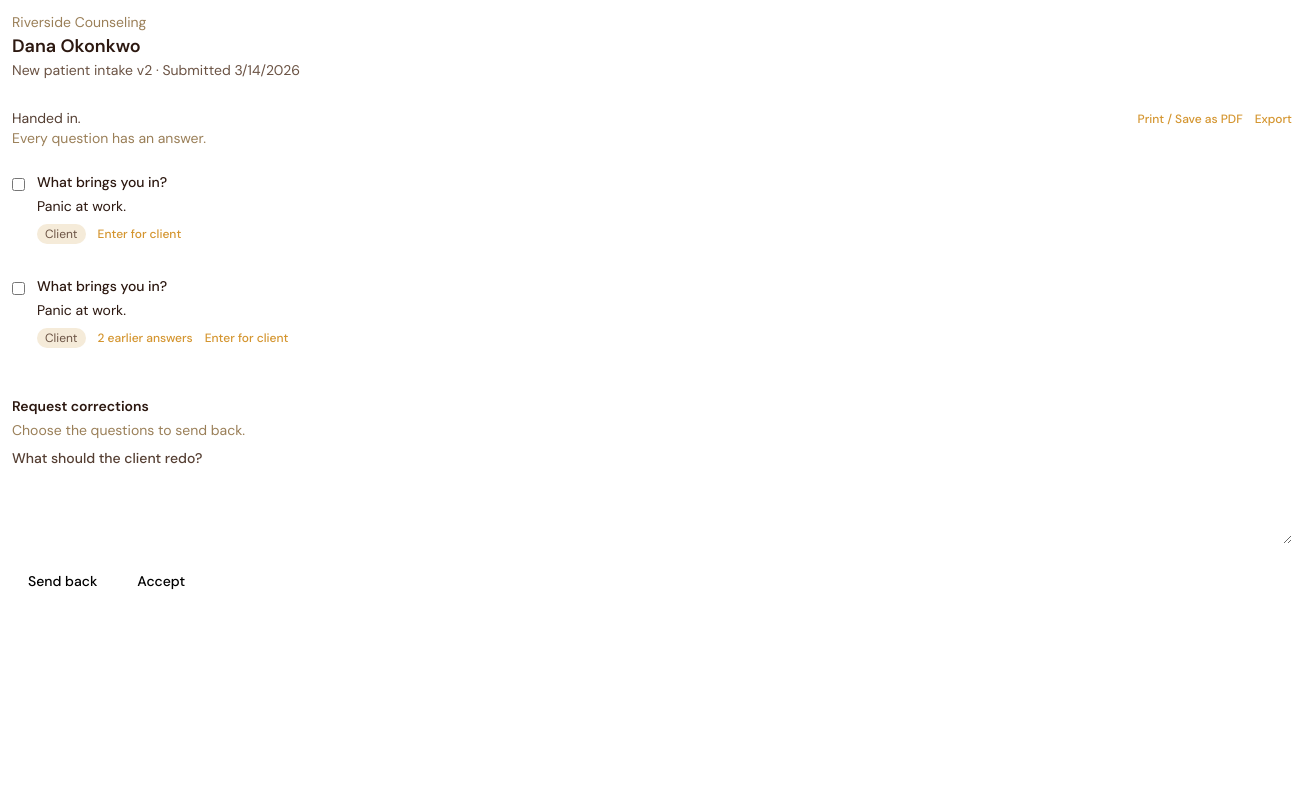
IntakeReviewPanel › offers the earlier-answers toggle only when there were earlier answers
Click the button with test id "intake-review-earlier-toggle-item-2": x=145, y=338 left=98, top=330, right=193, bottom=346
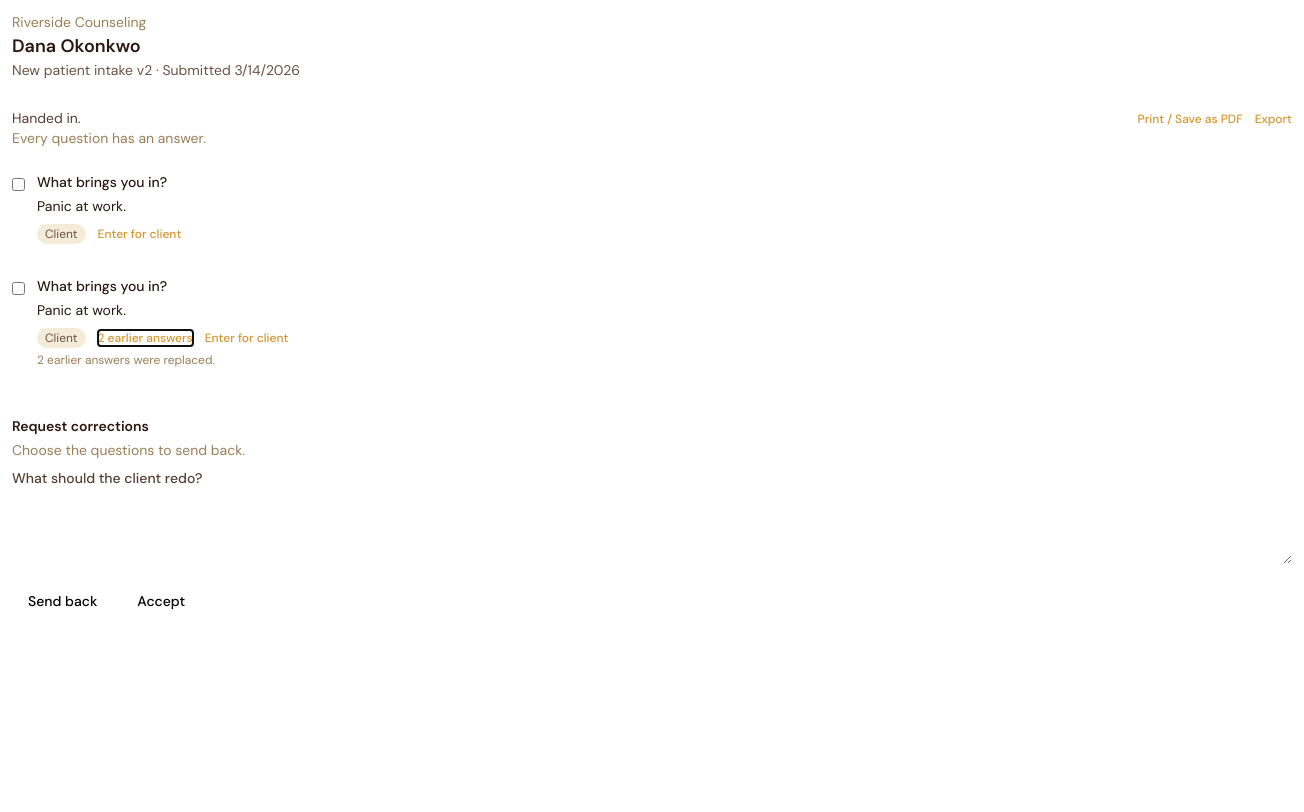
Check: the text with test id "intake-review-earlier-detail-item-2" reads "2 earlier answers were replaced.", box left=37, top=352, right=215, bottom=368
